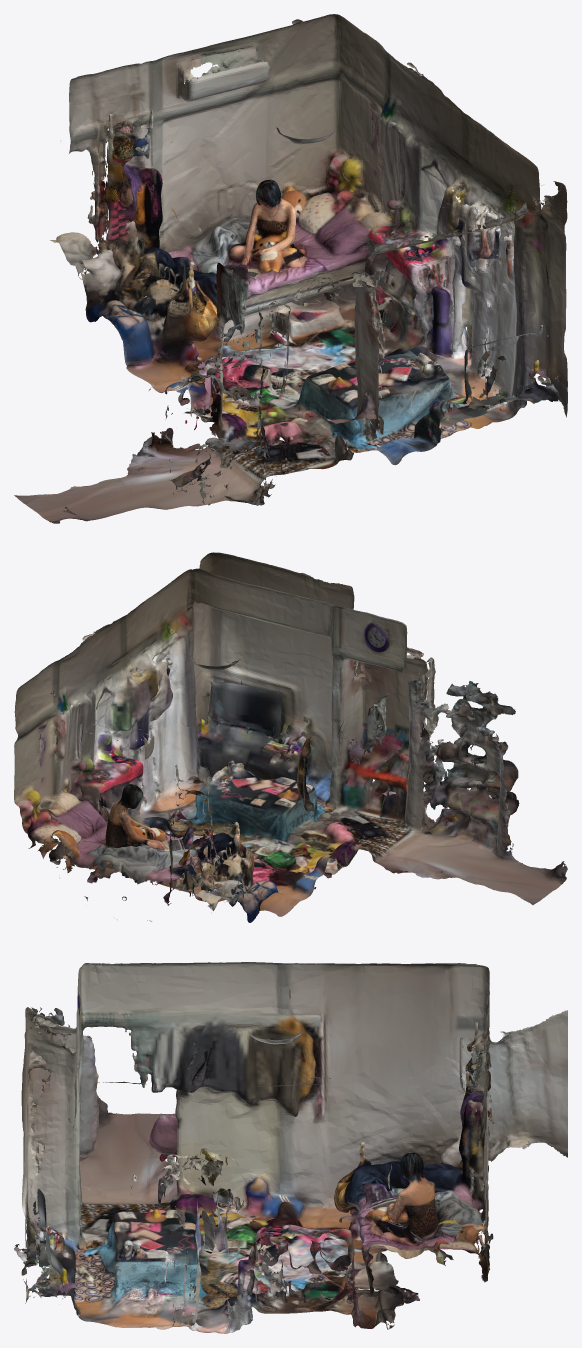
File: YUNA WEB.glb
3 views of the same model, one above another, from view 1: azimuth 30°, elevation 25°; view 2: azimuth 150°, elevation 25°; view 3: azimuth 270°, elevation 25° (orthographic). The views are drawn at different scales.
Parts seen in each view (by area): view 1: mesh; view 2: mesh; view 3: mesh.
Part boxes in pixels (<box>): mesh: <box>14,14,567,523</box>; mesh: <box>14,552,567,922</box>; mesh: <box>14,962,567,1333</box>.
Size of the model in its own units: 4.8 by 2.51 by 4.82.
Materials: 1 (1 with a texture image).
